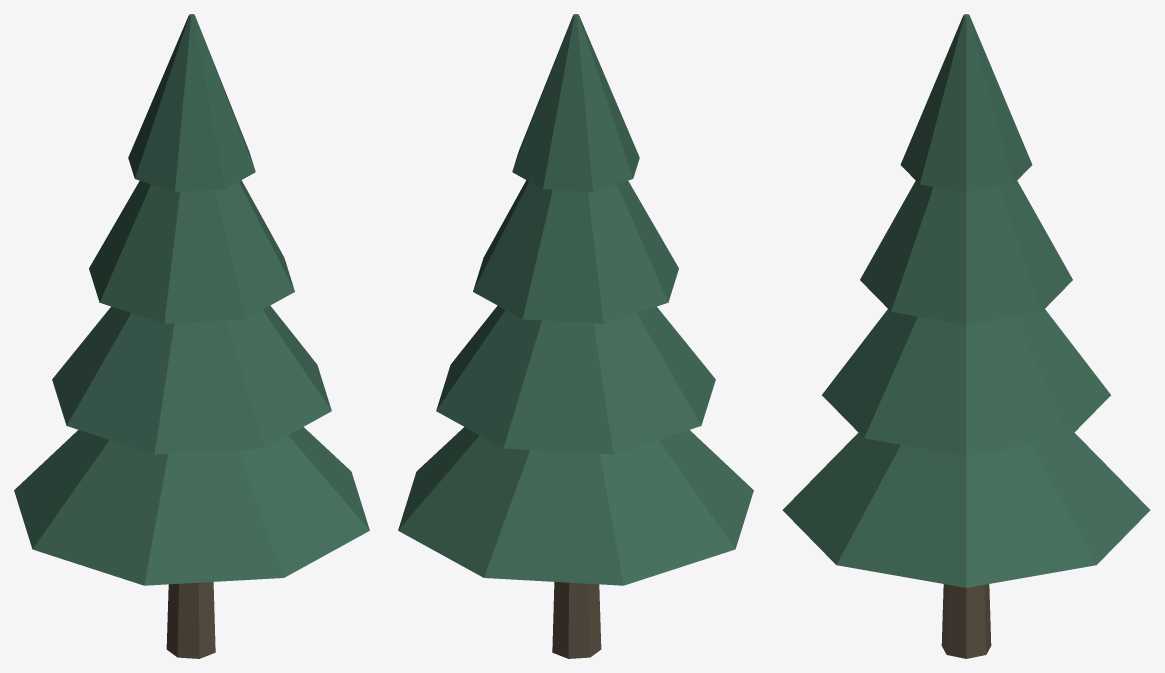
Rendered from ForestPine.fbx.
3 views of the same model, side by side, from view 1: azimuth 30°, elevation 25°; view 2: azimuth 150°, elevation 25°; view 3: azimuth 270°, elevation 25° (orthographic).
Visible parts, largest first — view 1: FA_ForestPine; view 2: FA_ForestPine; view 3: FA_ForestPine.
Boxes of the visible parts, <box> form: FA_ForestPine: <box>14,14,369,658</box>; FA_ForestPine: <box>398,14,753,658</box>; FA_ForestPine: <box>782,14,1150,658</box>.
Size of the model in its own units: 2.9 by 5.5 by 2.9.
